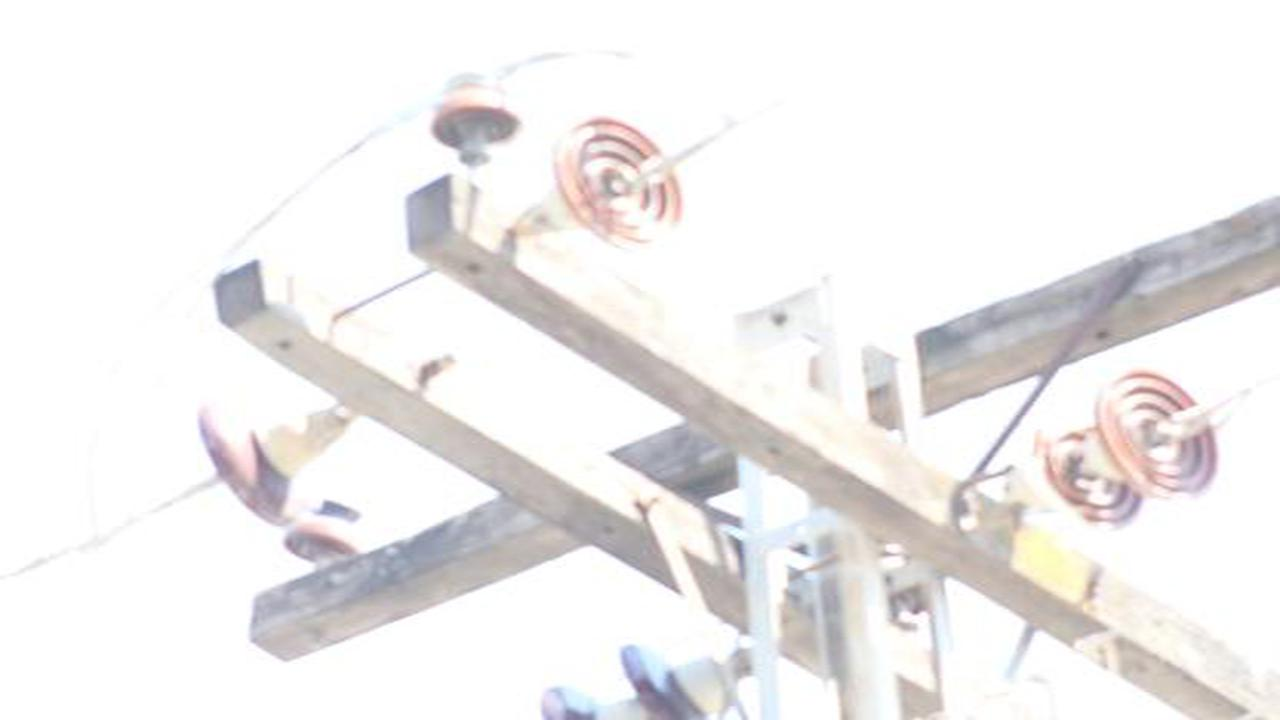insulator_disc: (552, 110, 688, 250), (1093, 370, 1221, 502), (197, 395, 318, 509), (622, 641, 732, 713)
insulator_pin: (431, 69, 524, 154), (288, 490, 367, 560)
